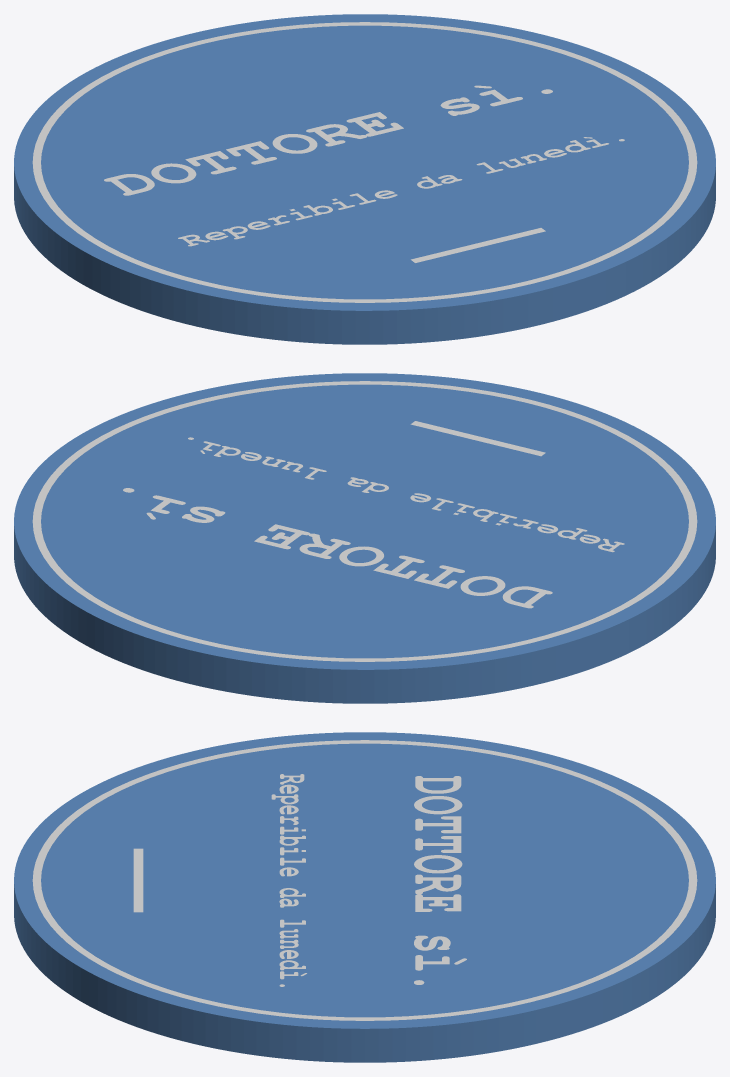
Rendered from sottobicchiere-non-chiamatemi-domani.glb.
3 views of the same model, one above another, from view 1: azimuth 30°, elevation 25°; view 2: azimuth 150°, elevation 25°; view 3: azimuth 270°, elevation 25° (orthographic).
Visible parts, largest first — view 1: coaster_base, coaster_ink; view 2: coaster_base, coaster_ink; view 3: coaster_base, coaster_ink.
Part boxes in pixels (left/top/right/bottom): coaster_base: left=14, top=14, right=715, bottom=344; coaster_ink: left=32, top=22, right=697, bottom=302; coaster_base: left=14, top=373, right=715, bottom=703; coaster_ink: left=32, top=381, right=697, bottom=661; coaster_base: left=14, top=732, right=715, bottom=1062; coaster_ink: left=32, top=740, right=697, bottom=1020.
Size of the model in its own units: 0.075 by 0.004 by 0.075.
